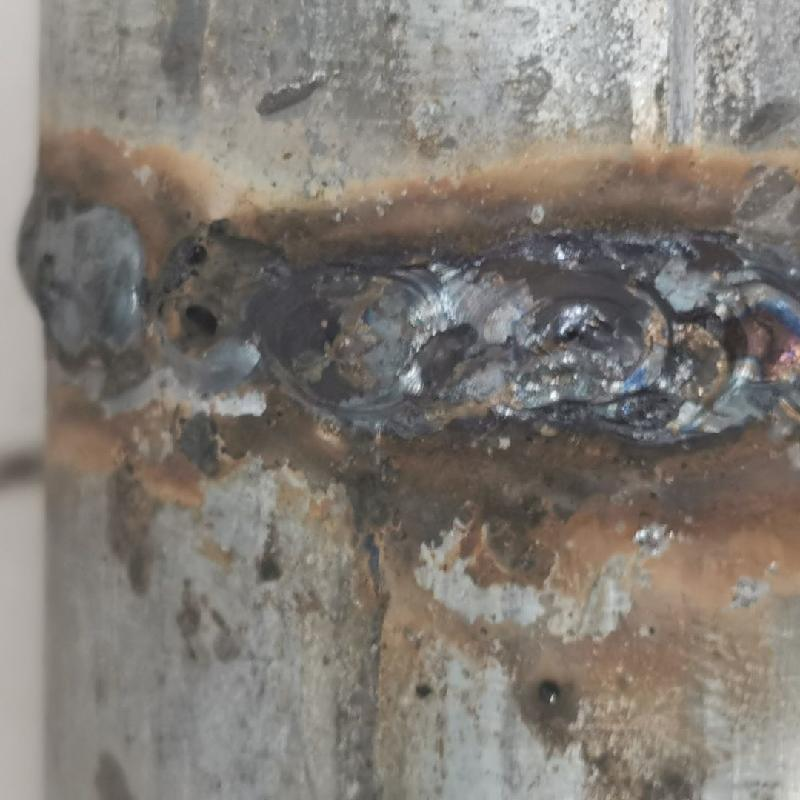Surface_pores: (151, 230, 243, 360)
crater: (441, 268, 798, 431)
wrong_size: (264, 258, 432, 430), (7, 193, 143, 365)
